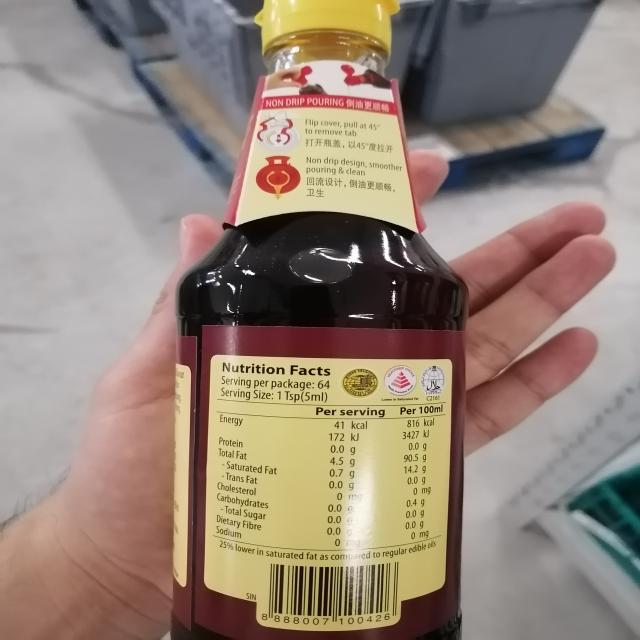object_name: (200, 3, 450, 640)
